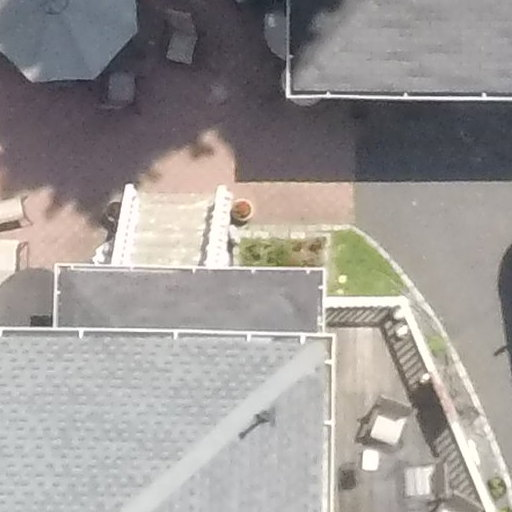awning: (45, 257, 343, 346)
chair: (354, 395, 416, 457), (394, 457, 465, 506)
container: (99, 195, 127, 226), (230, 195, 255, 224)
porch: (327, 290, 488, 512)
umbrella: (3, 1, 135, 95)
